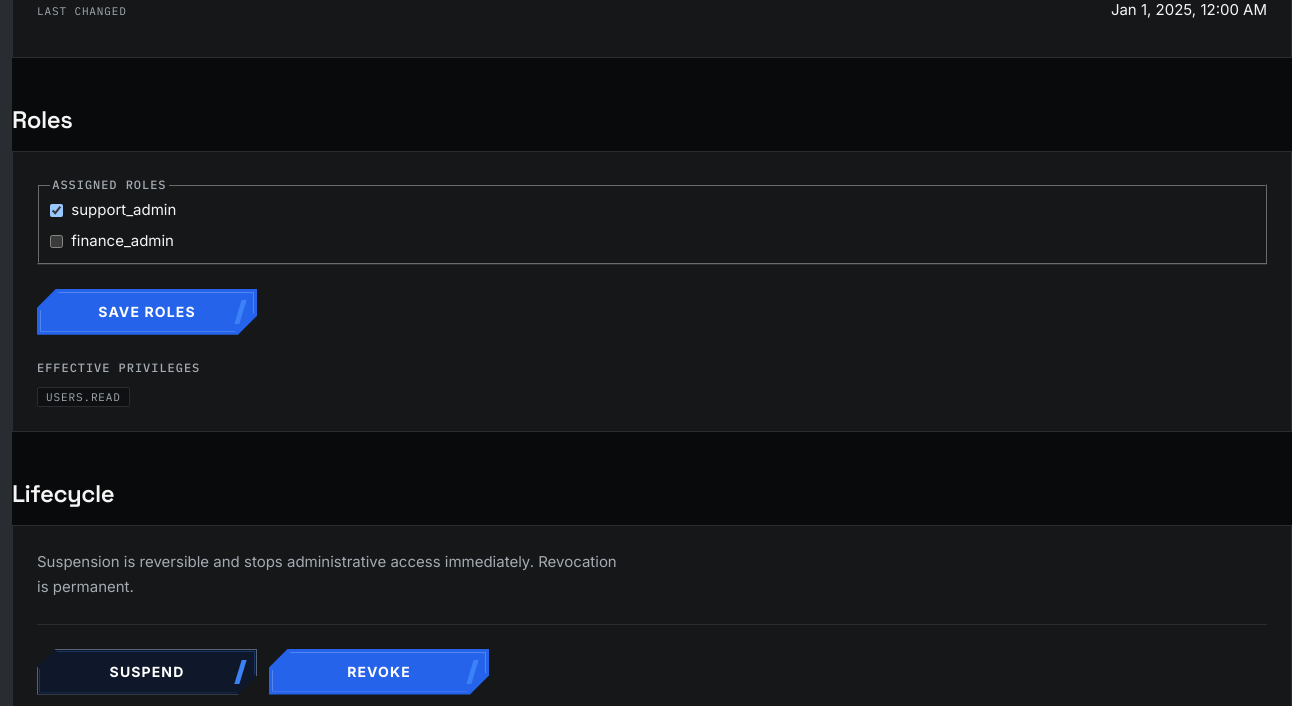
Scenario: administrator detail › shows a conflict when the lifecycle transition is no longer valid
(page scrolled)
Click the button "Suspend". click: (147, 672)
box: x1=37 y1=648 x2=257 y2=694
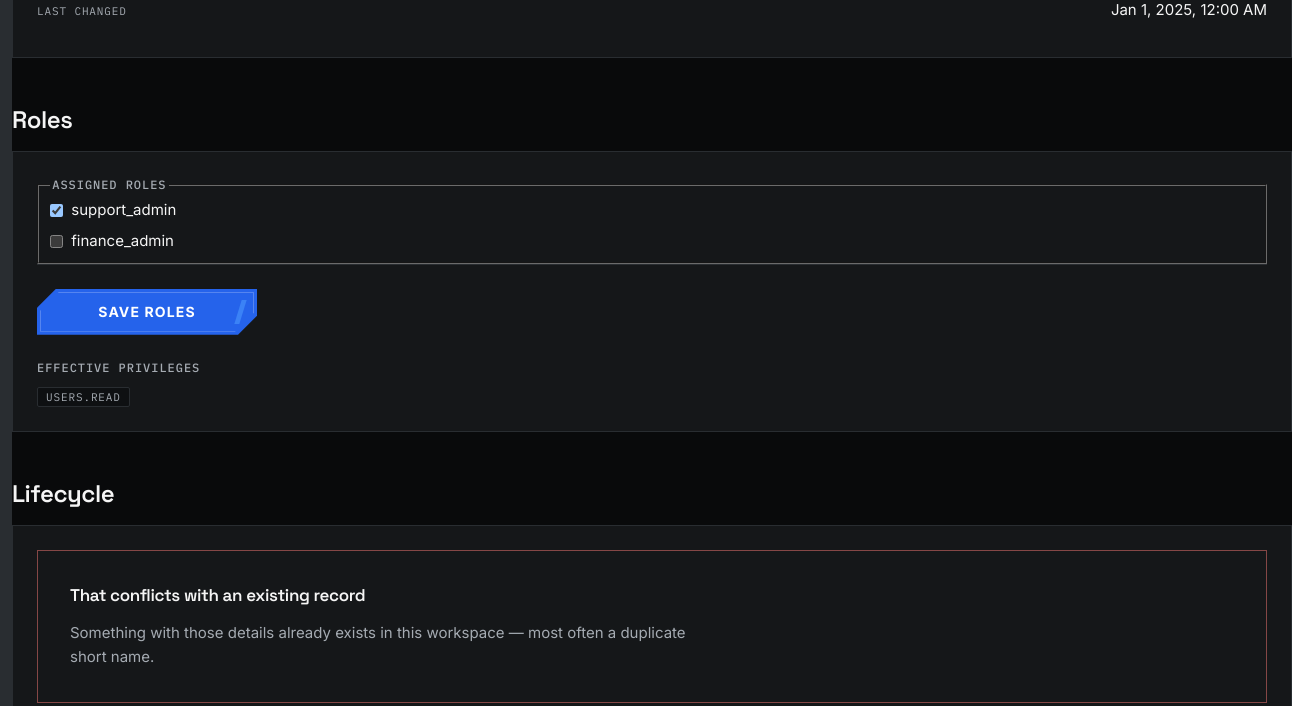
Now the message is shown, box x1=37 y1=550 x2=1267 y2=703
